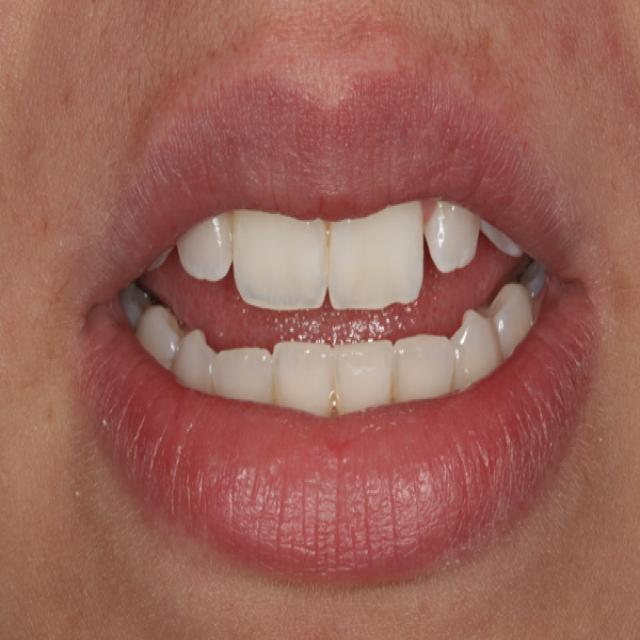tooth: (225, 212, 335, 321), (327, 196, 429, 313), (275, 337, 345, 423), (422, 195, 493, 279), (390, 329, 461, 407), (213, 344, 289, 414), (332, 338, 393, 412), (454, 311, 508, 388), (173, 217, 230, 279), (129, 298, 175, 368), (490, 284, 540, 345), (178, 333, 217, 398), (481, 225, 524, 255)
